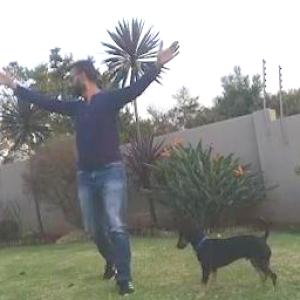takeoff: (1, 29, 190, 299)
